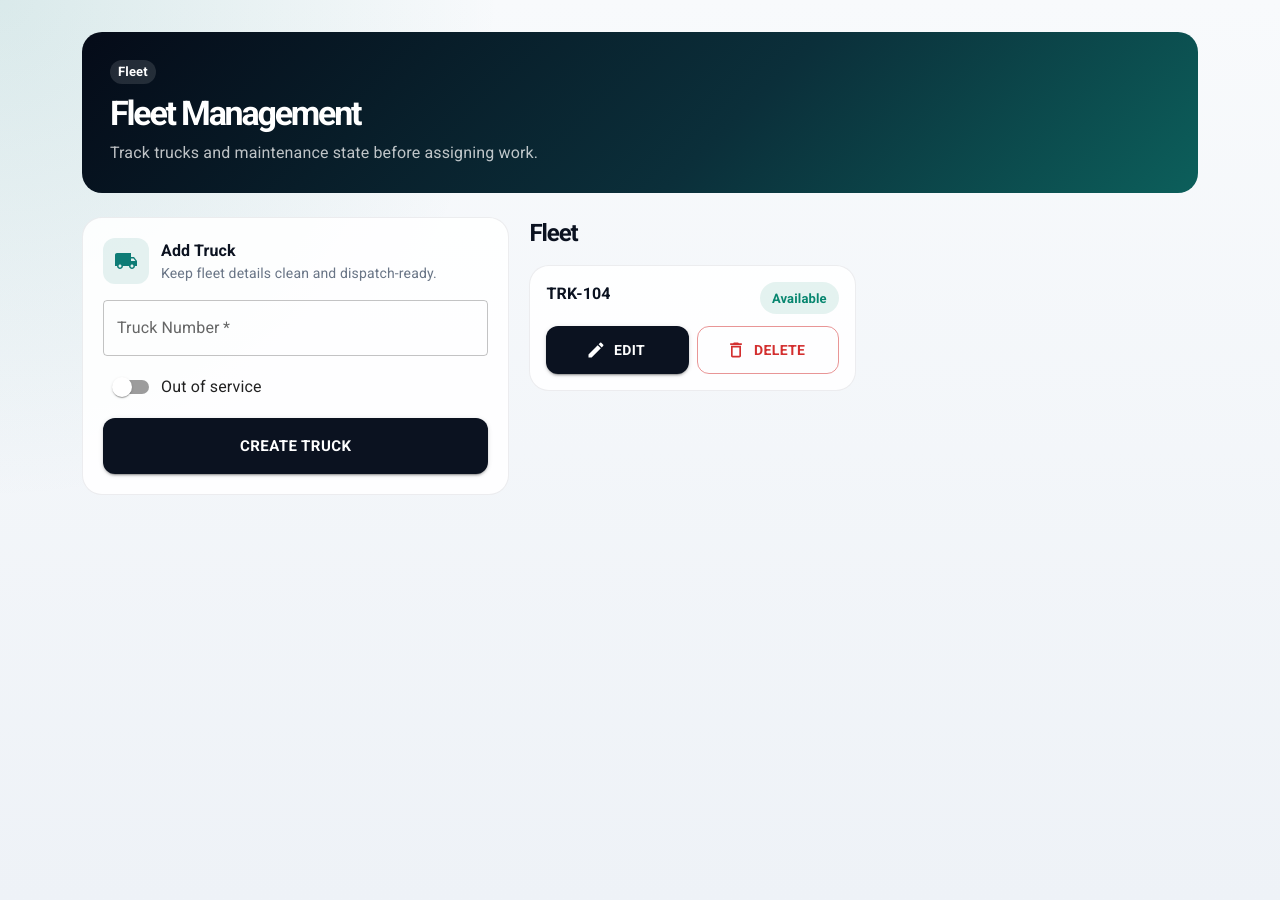
Test: admin Trucks — archive (not permanent delete) wording › PASS: if the backend response has no message, falls back to an accurate 'archived' wording rather than 'deleted'
expect the text "TRK-104" is shown: met, box [546,282,611,306]
Click the button "Delete" at point(768, 350), box [697,326,839,374]
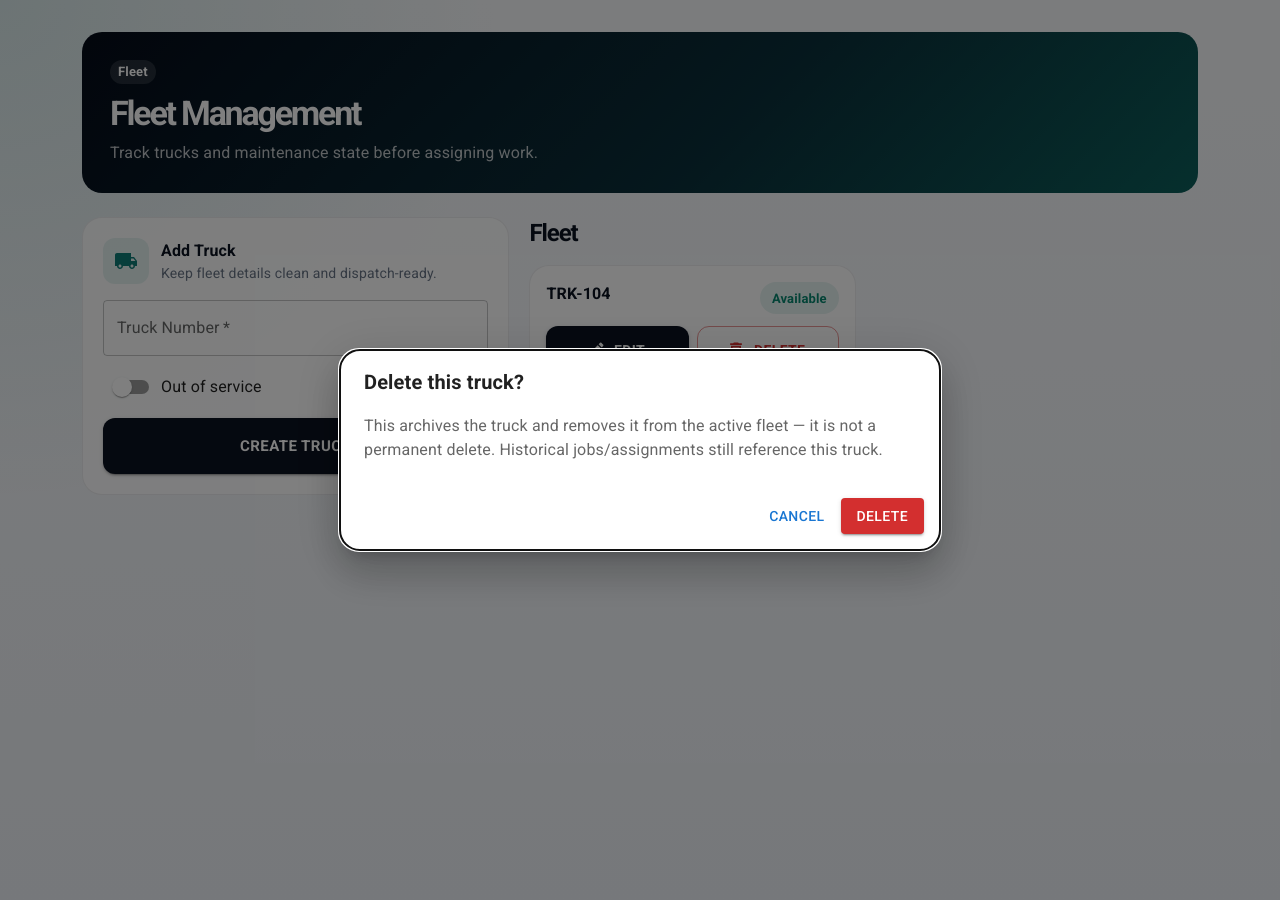
Click the button "Delete" at point(882, 516), box [840,498,924,534]
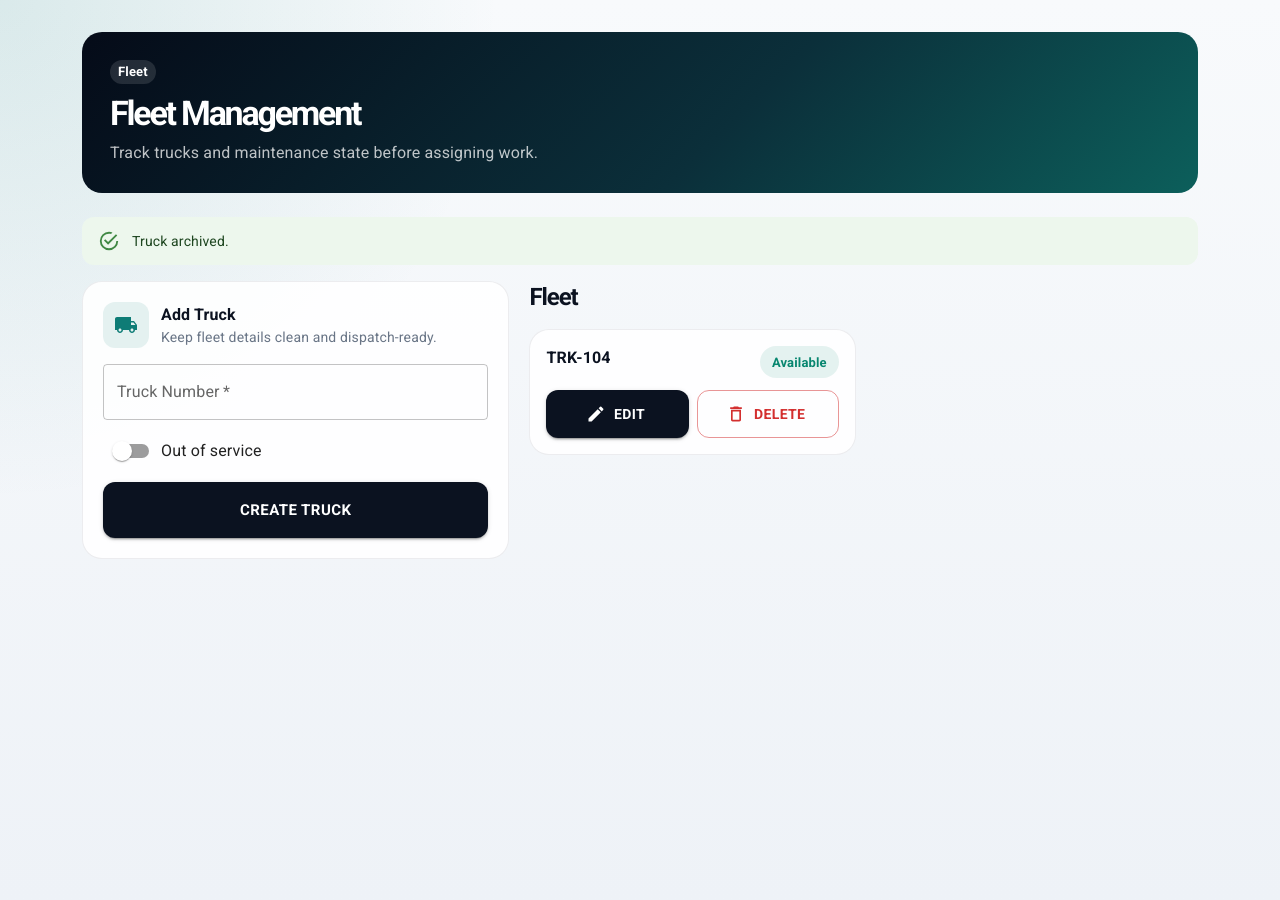
expect the text "Truck archived." is shown: met, box [132,233,229,249]
